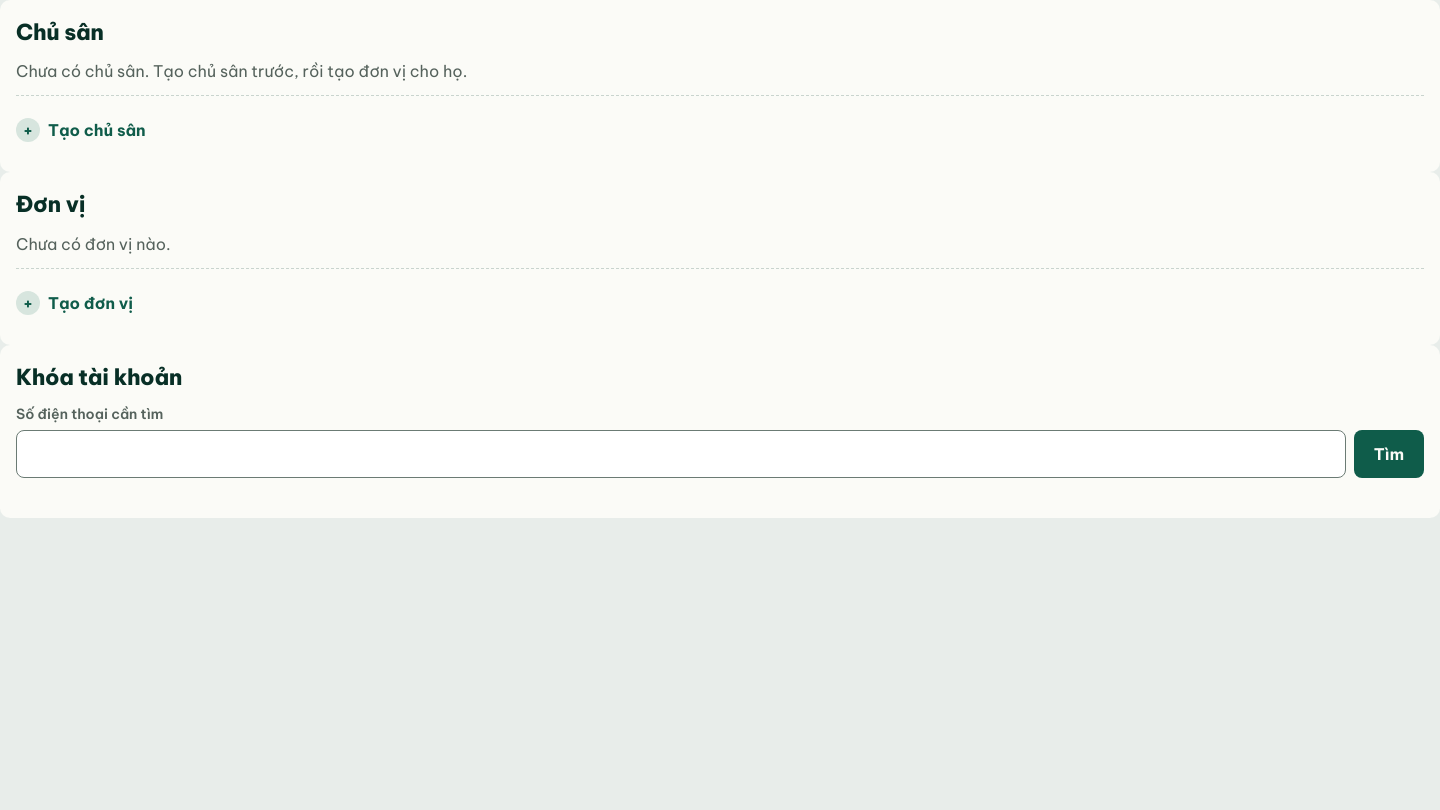
Test: AdminPanel › clears an old result when the admin searches again, so the wrong account cannot be locked
Type "0901234567" into the field labelled "Số điện thoại cần tìm" at (681, 454), box [16,430,1346,478]
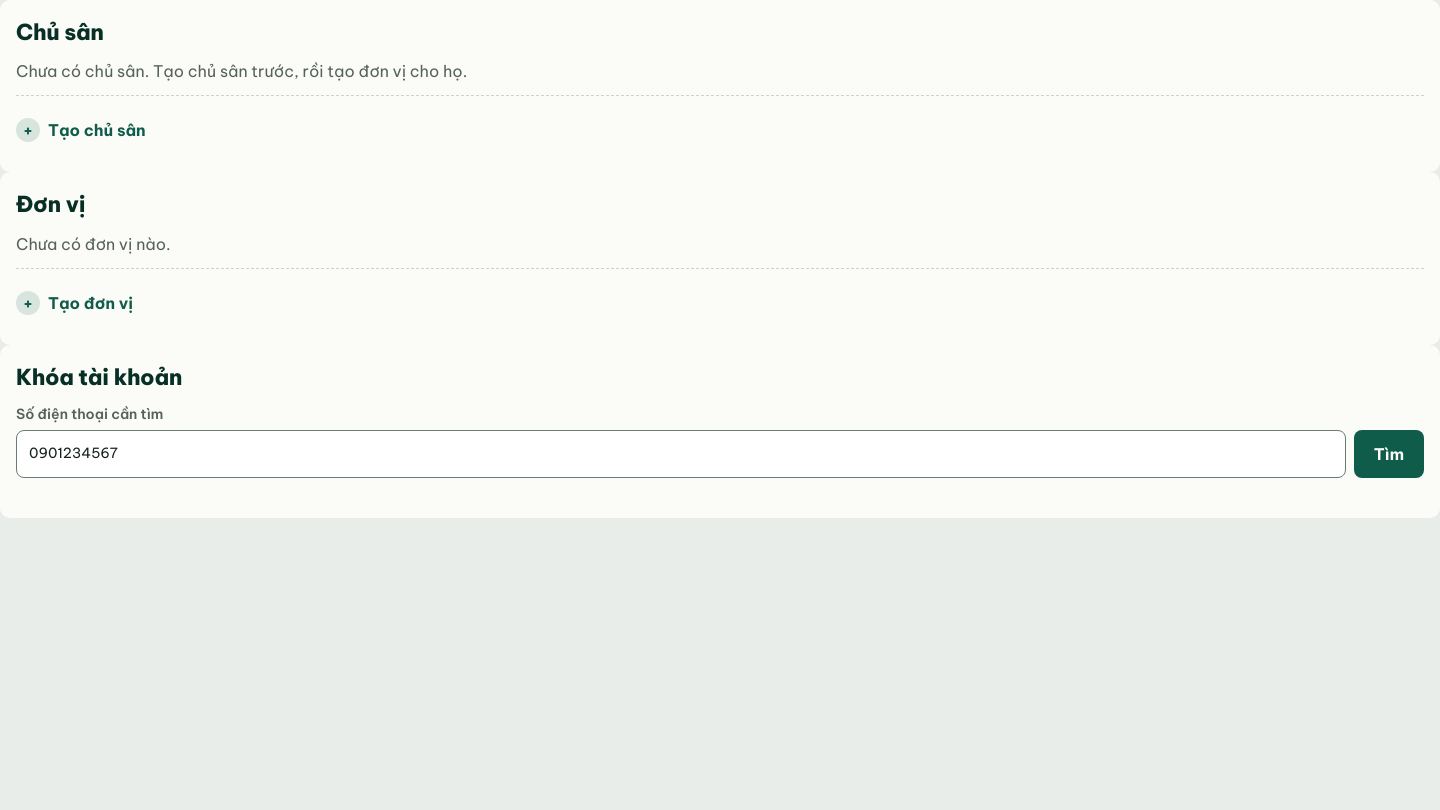
Click the button "Tìm" at (1389, 454), box [1354,430,1424,478]
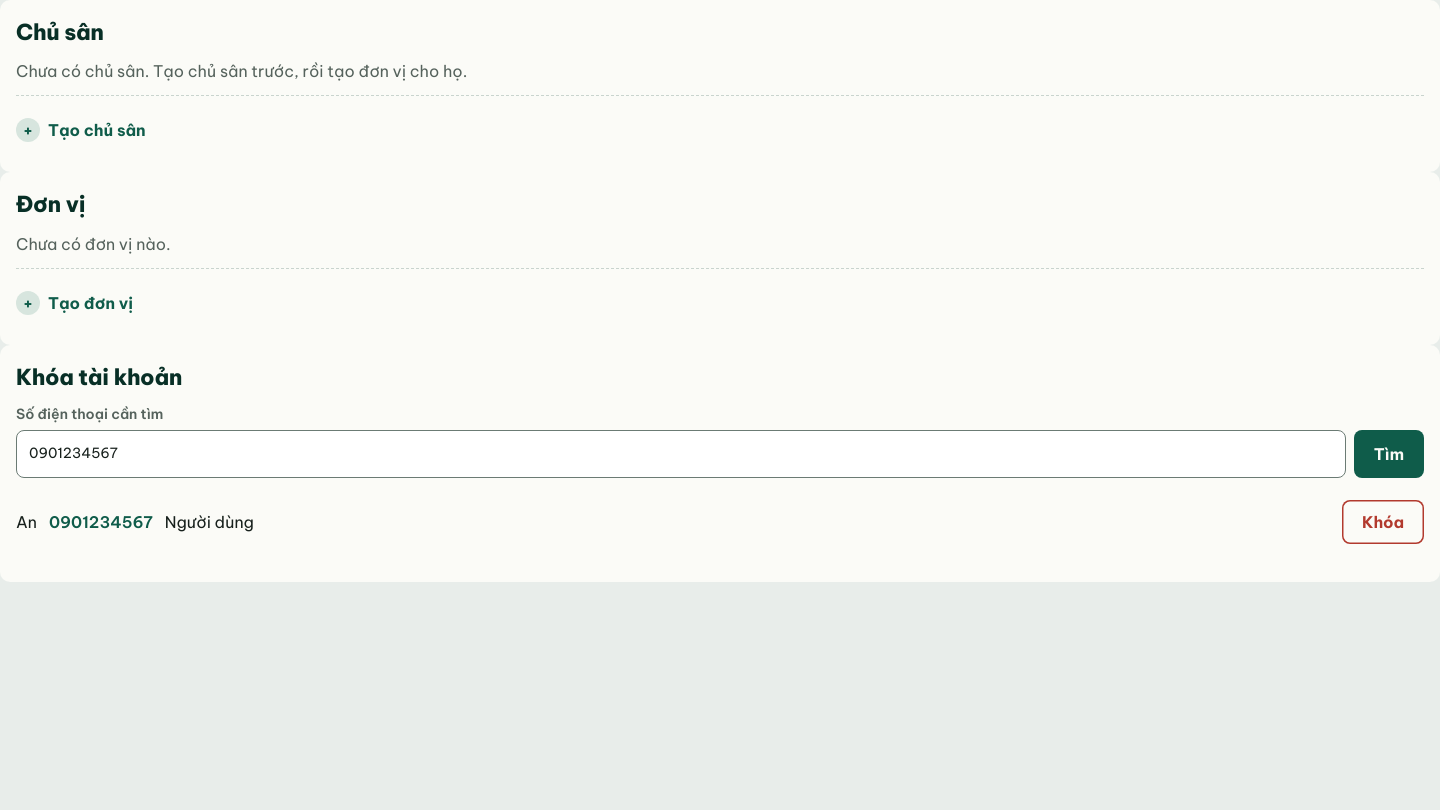
expect the text "An" is shown: met, box [16,510,37,534]
Replace the text in the field labelled "Số điện thoại cần tìm" with "09" at (681, 454), box [16,430,1346,478]
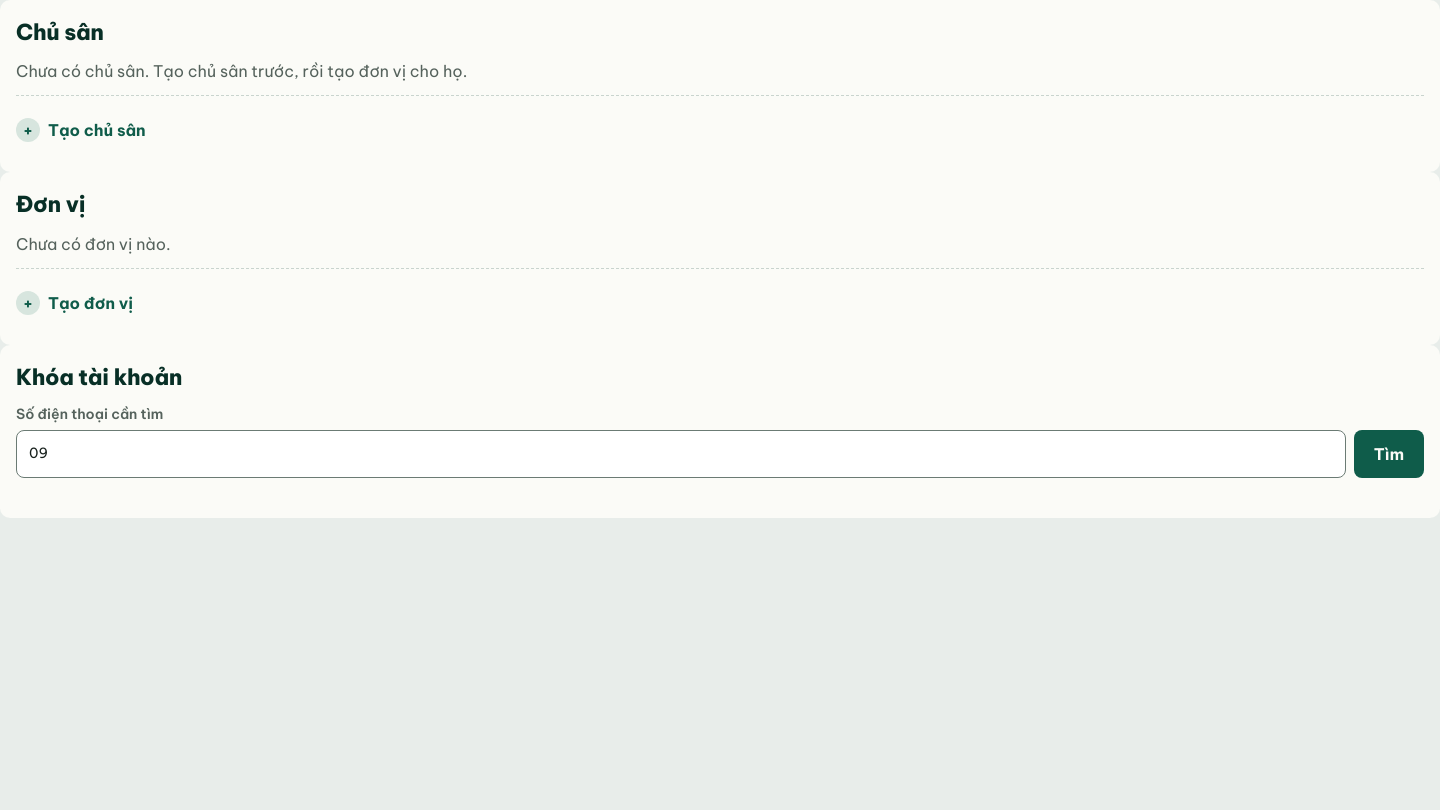
Click the button "Tìm" at (1389, 454), box [1354,430,1424,478]
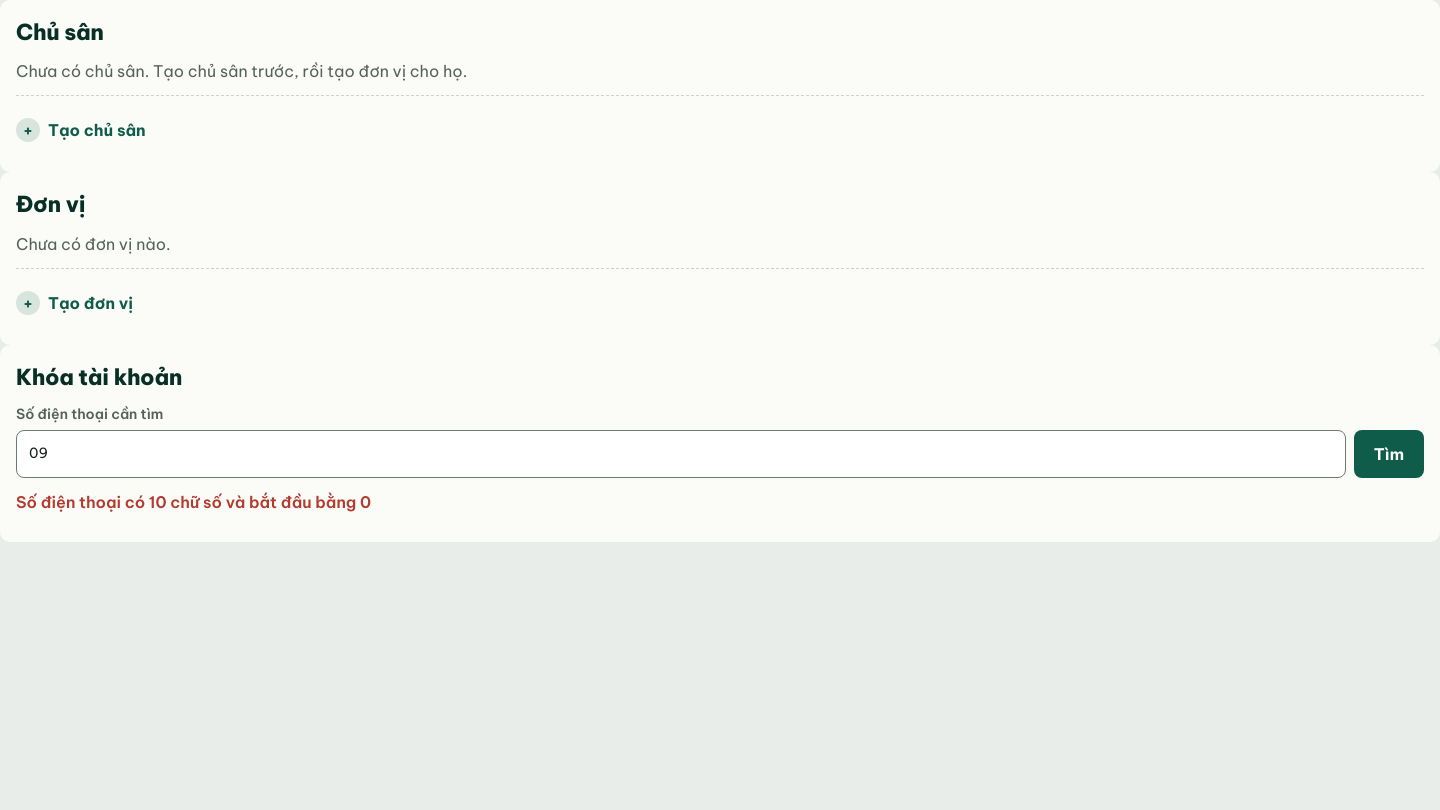
expect the message "Số điện thoại có 10 chữ số và bắt đầu bằng 0" is shown: met, box [16,492,371,512]
